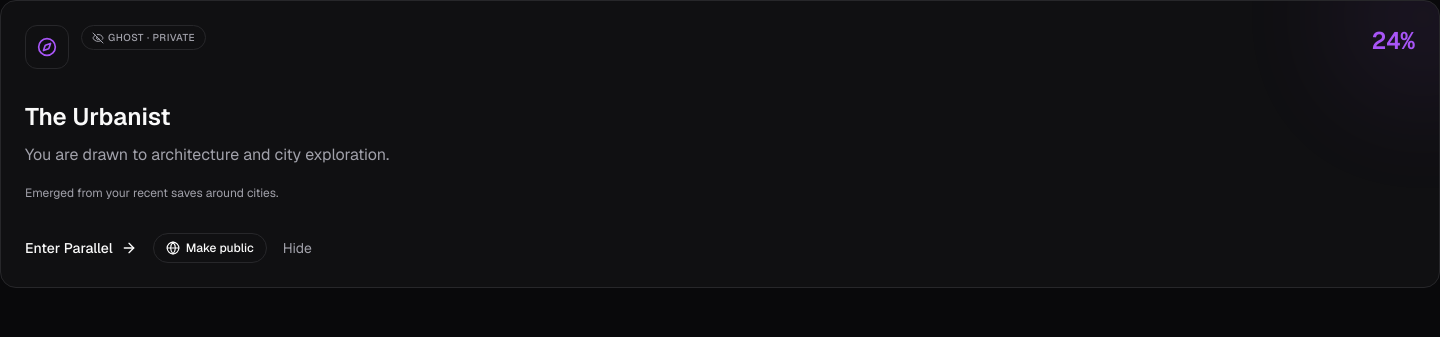
it: ParallelCard Ghost Mode visibility controls › handles API failure honestly without showing success or clearing Ghost status
Click the button "Make public": [210, 248] box [153,233,267,263]
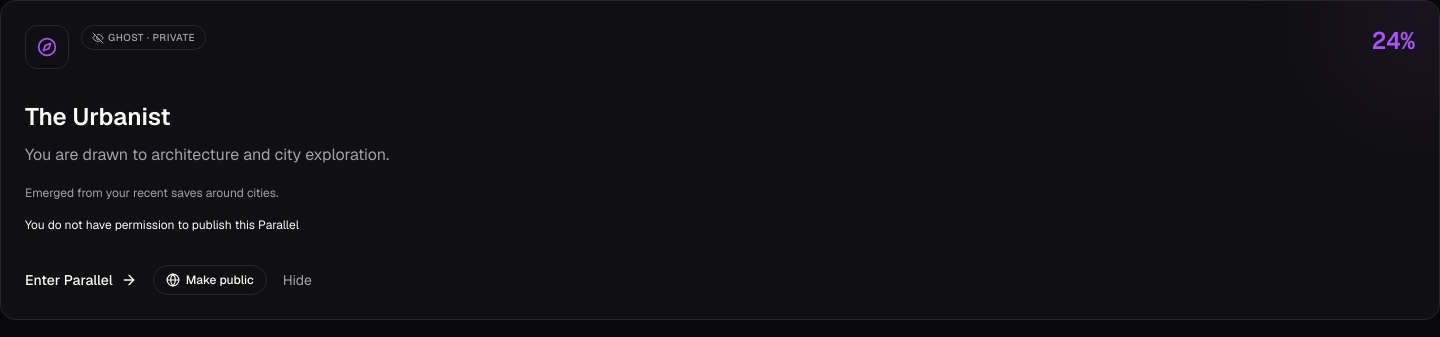
expect the text "Ghost · Private" is shown: met, box [81,25,206,50]
expect the message reads "You do not have permission to publish this Parallel": met, box [25,217,299,233]
